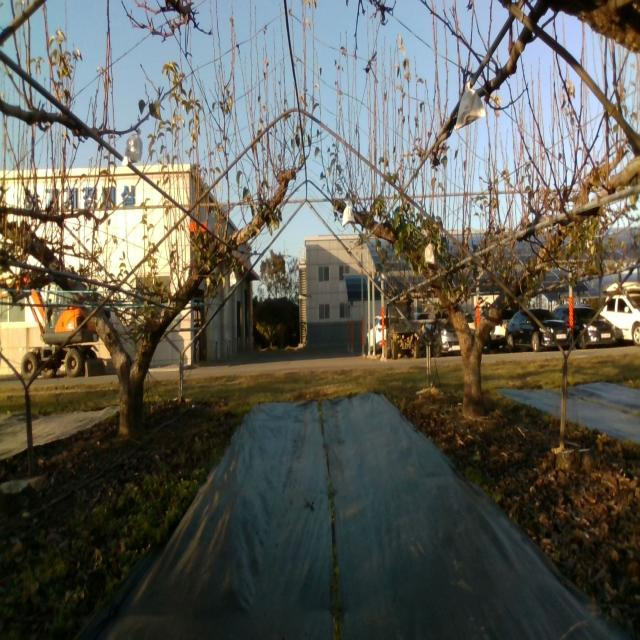pearbags: (454, 80, 486, 137), (121, 127, 143, 166), (342, 205, 357, 227), (424, 240, 436, 264)
